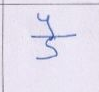ai_matra: (37, 13, 57, 35)
